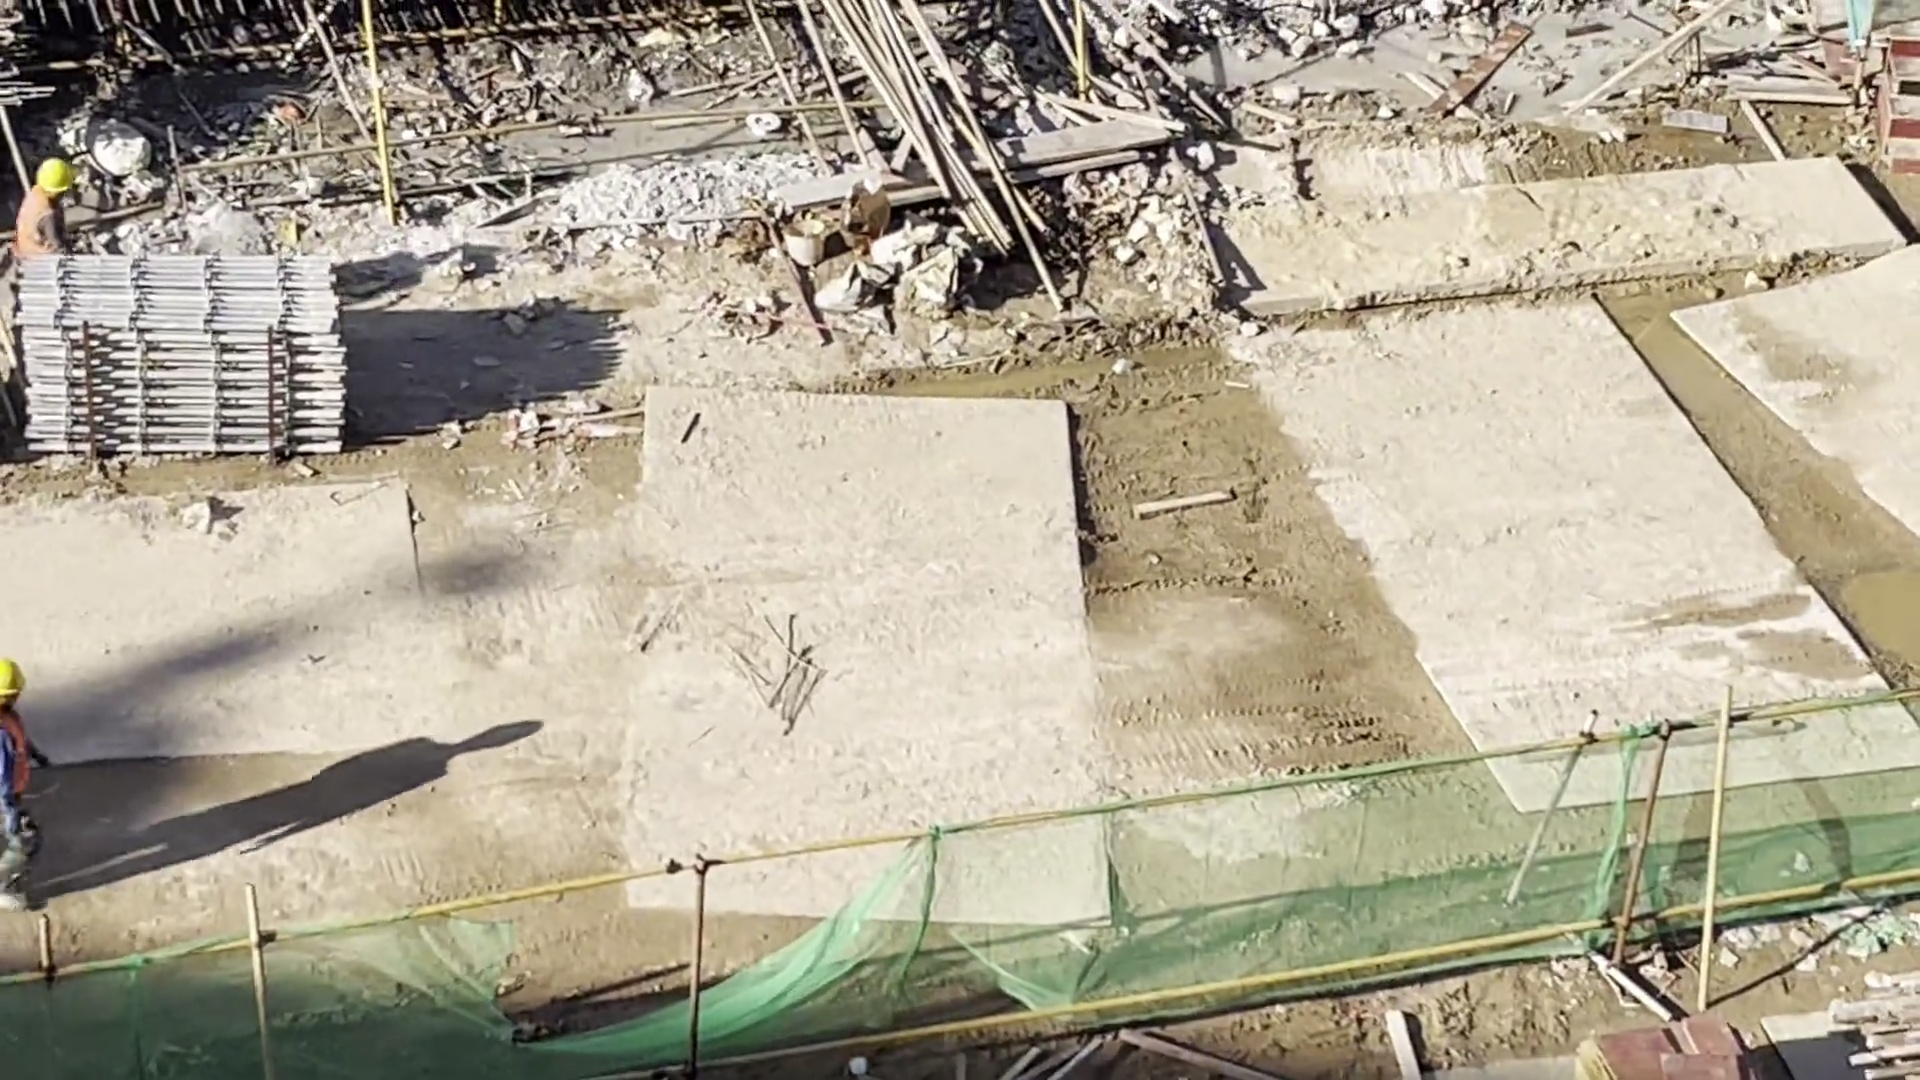board: (1570, 997, 1764, 1080)
helmet: (34, 150, 82, 200), (1, 652, 33, 701)
person: (1, 634, 74, 916), (7, 143, 100, 268)
scaffold: (11, 242, 370, 473)
vest: (11, 194, 69, 260), (1, 708, 44, 794)
